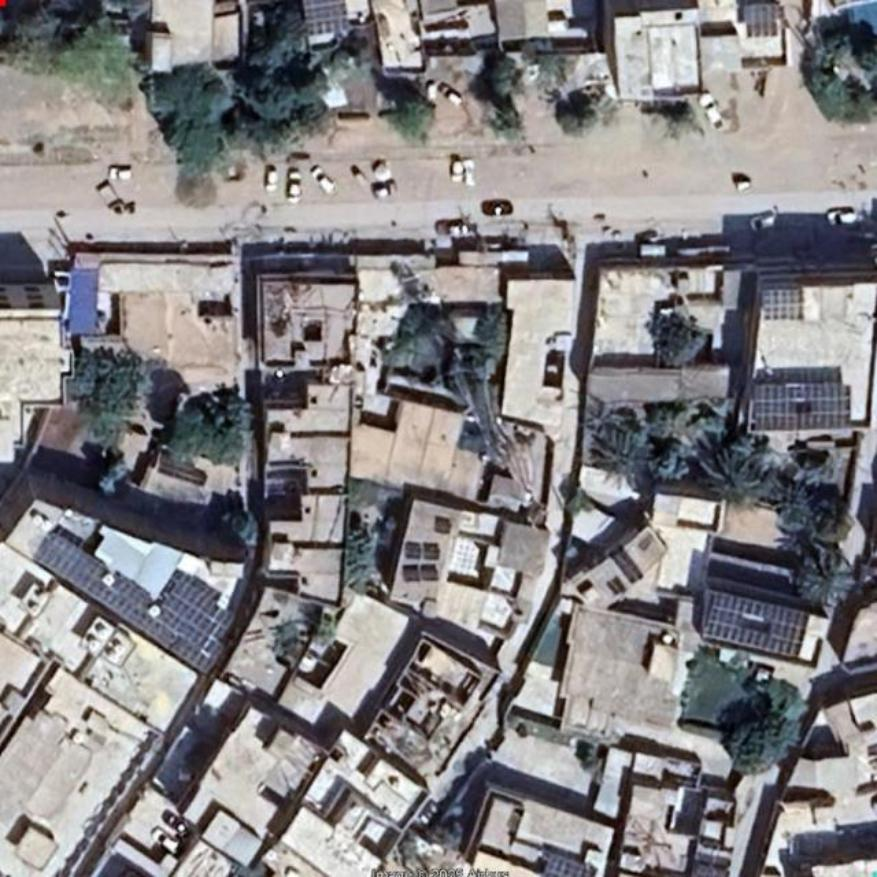Solarpanel: (33, 512, 236, 676), (707, 594, 810, 665), (755, 383, 850, 431), (535, 849, 596, 876), (307, 0, 352, 34), (765, 284, 807, 319), (749, 9, 781, 34)
